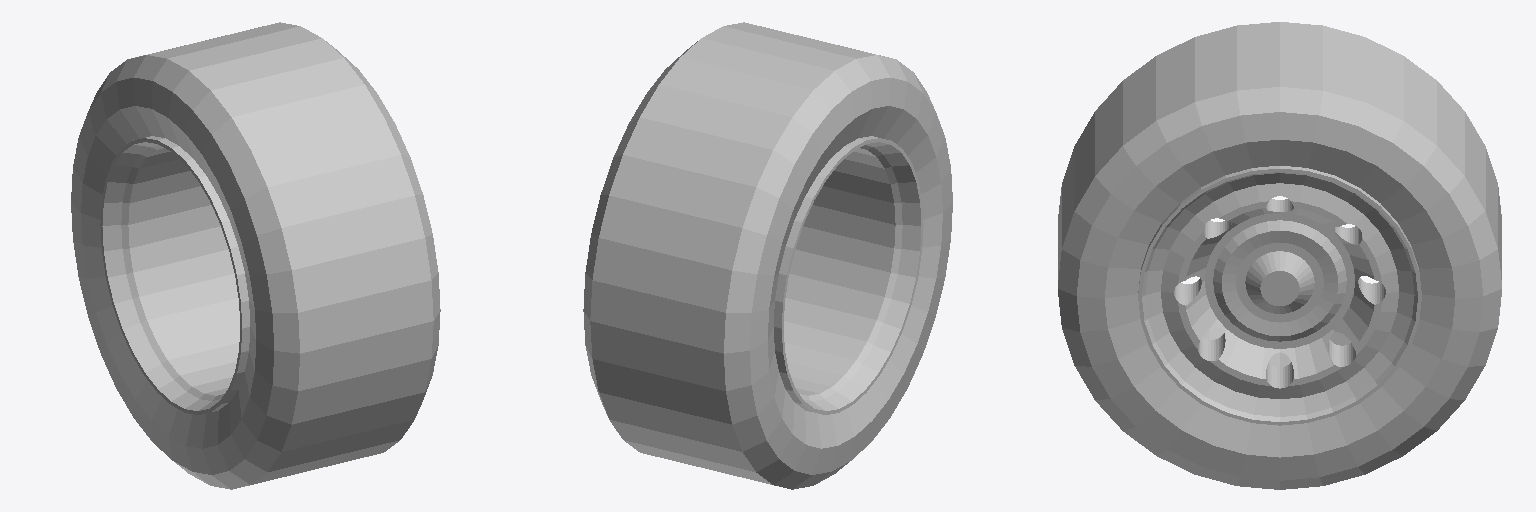
Rendered from wheel1.obj.
The picture shows the model from 3 angles: view 1: azimuth 30°, elevation 25°; view 2: azimuth 150°, elevation 25°; view 3: azimuth 270°, elevation 25°; orthographic projection.
Visible parts, largest first — view 1: Cylinder.001; view 2: Cylinder.001; view 3: Cylinder.001.
Boxes of the visible parts, <box> form: Cylinder.001: <box>71,22,440,489</box>; Cylinder.001: <box>583,22,952,489</box>; Cylinder.001: <box>1058,22,1501,489</box>.
Bounding box in the file's own units: 0.7249 × 1.6 × 1.6.